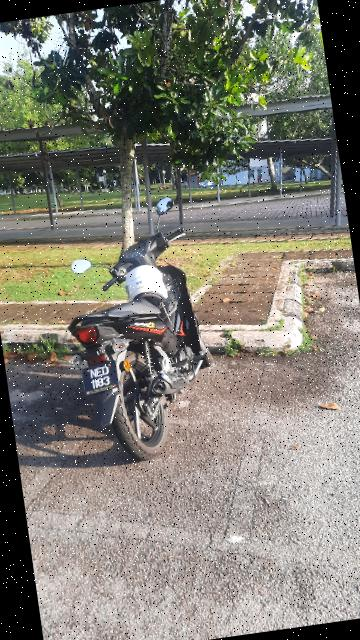License_Plate: (78, 360, 127, 399)
motorcycle: (49, 186, 234, 472)
